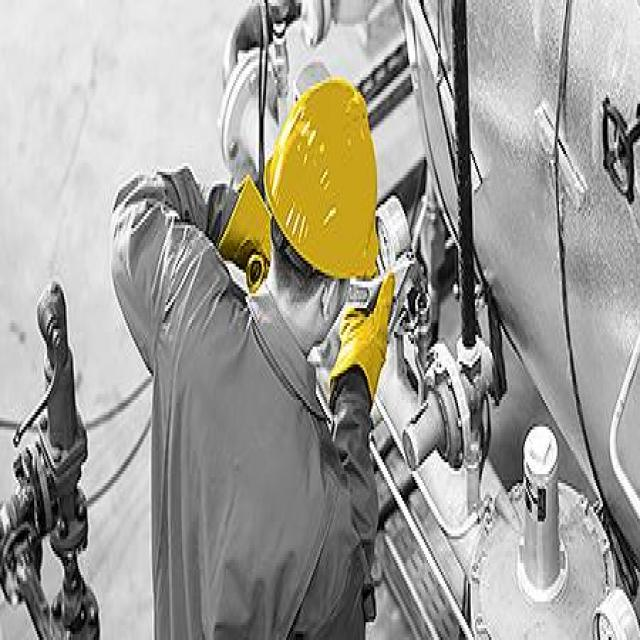Reflective-Jacket: (327, 255, 398, 409)
Safety-Helmet: (262, 68, 382, 288)
